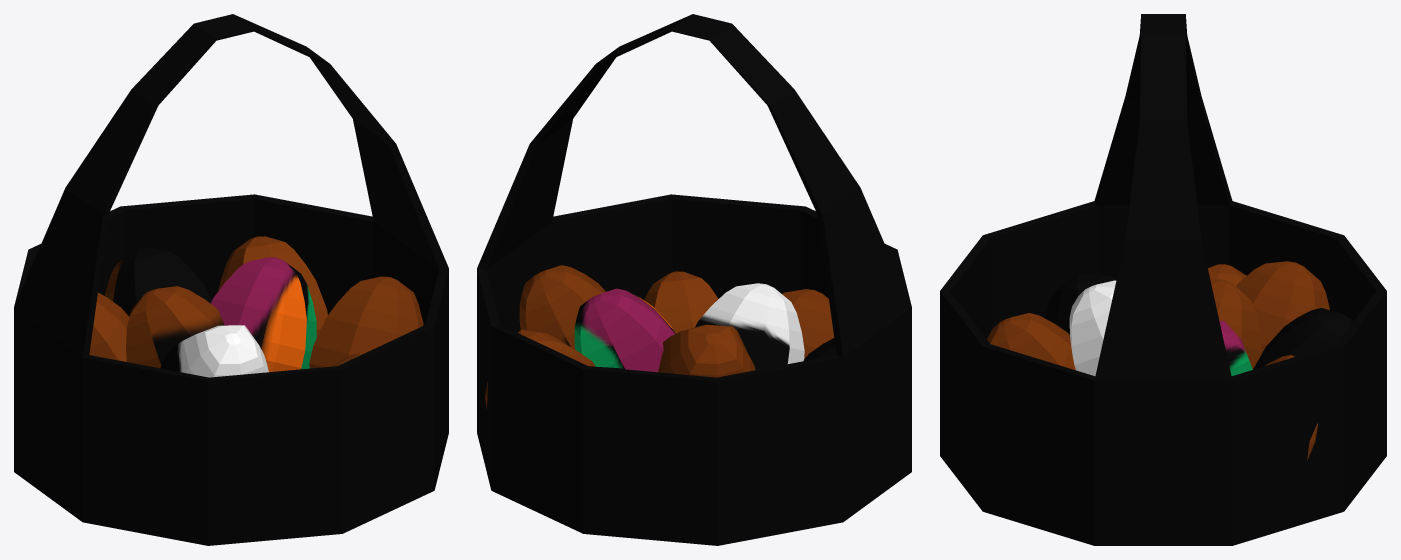
File: cesta de ovos.fbx
3 renders of one model, left to right at view 1: azimuth 30°, elevation 25°; view 2: azimuth 150°, elevation 25°; view 3: azimuth 270°, elevation 25°, orthographic.
Parts seen in each view (by area): view 1: Cylinder; view 2: Cylinder; view 3: Cylinder.
Part boxes in pixels (x1,y1,x2,y2): Cylinder: [14, 14, 448, 545]; Cylinder: [477, 14, 911, 545]; Cylinder: [940, 14, 1386, 545].
Bounding box in the file's own units: 298 × 332 × 314.
